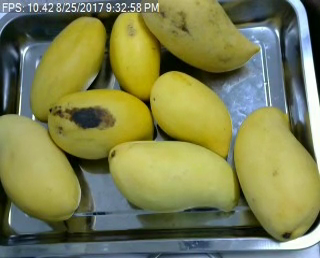Mango: (232, 107, 320, 241), (108, 141, 239, 211), (139, 0, 261, 73), (0, 113, 81, 220), (30, 17, 107, 118), (46, 89, 152, 162), (150, 68, 232, 160), (109, 10, 159, 97)
